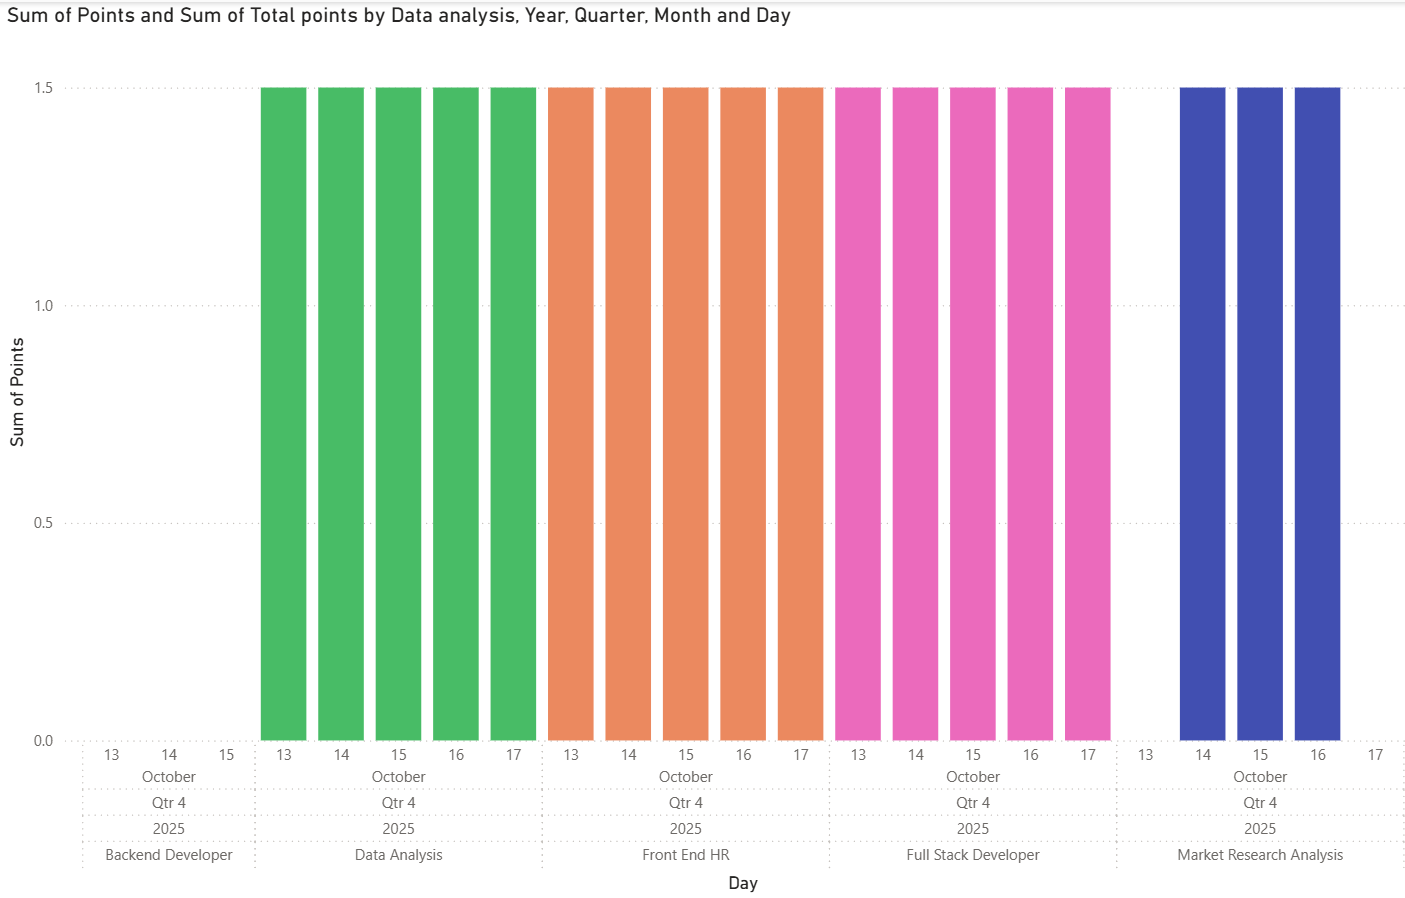

Layout of this report page (visuals, bound fields, positions):
{"tool":"powerbi","page":{"name":"Page 4","canvas":[1280,720],"ordinal":3},"visuals":[{"type":"columnChart","fields":{"Category":["Sheet1.Course Name","Sheet1.Date.Variation.Date Hierarchy.Year","Sheet1.Date.Variation.Date Hierarchy.Quarter","Sheet1.Date.Variation.Date Hierarchy.Month","Sheet1.Date.Variation.Date Hierarchy.Day"],"Y":["Sum(Sheet1.Points)"]},"box":[51.4,0,1145.6,719.9],"z":0}]}

Visuals, with their boxes on the page's 1280x720 design canvas (x1, y1, x2, y2). These are canvas units, not pixel positions in the 1405x898 screenshot, which may show the page scaled, cropped or inside an application window:
columnChart - Sheet1.Course Name x Sheet1.Date.Variation.Date Hierarchy.Year: 51, 0, 1197, 720
